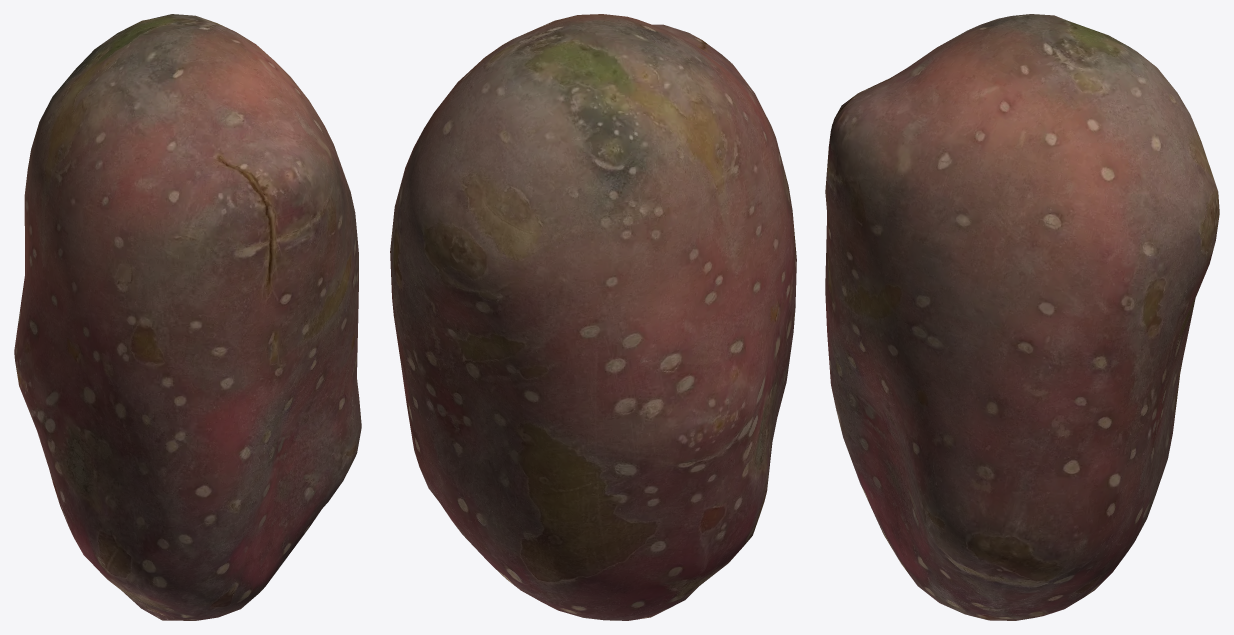
File: sweet_potato.glb
3 views of the same model, side by side, from view 1: azimuth 30°, elevation 25°; view 2: azimuth 150°, elevation 25°; view 3: azimuth 270°, elevation 25° (orthographic). The views are drawn at different scales.
Visible parts, largest first — view 1: sweet_potato; view 2: sweet_potato; view 3: sweet_potato.
Boxes of the visible parts, x1,y1,x2,y2 form: sweet_potato: (14,14,361,620); sweet_potato: (390,14,796,620); sweet_potato: (825,14,1219,620).
Size of the model in its own units: 0.0581 by 0.1005 by 0.061.
Materials: 1 (1 with a texture image).
